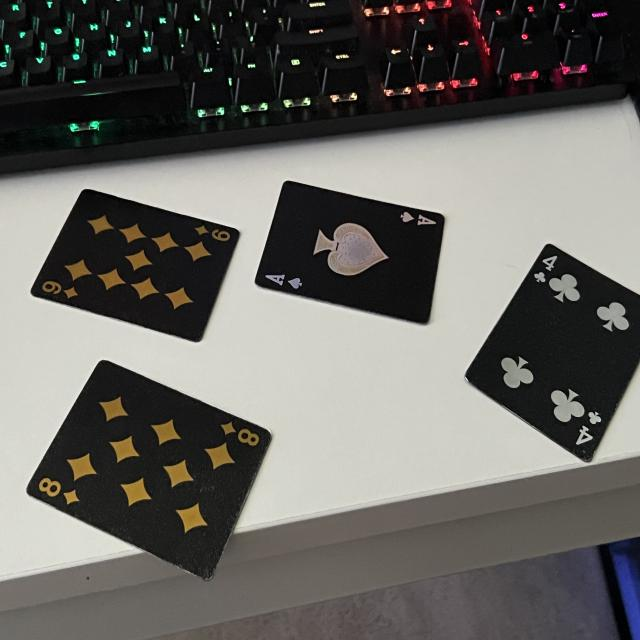4C: (531, 246, 561, 289), (575, 406, 600, 452)
8D: (217, 414, 266, 447), (34, 476, 82, 507)
9D: (40, 276, 81, 304), (193, 221, 233, 245)
AS: (397, 206, 439, 234), (262, 269, 305, 291)
